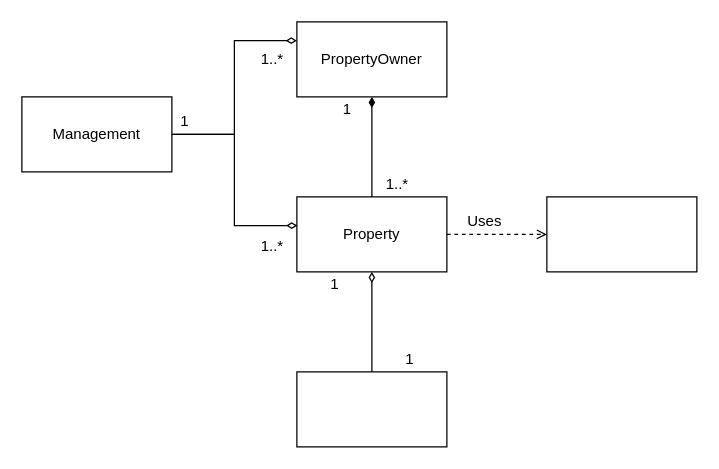
Image size: 719x469. Some labels were removed from this diagram. The centre of each missing label's shape, as x and y in pixels:
"Payment" belongs at point (371, 409).
"TaxCalculator" belongs at point (621, 234).
